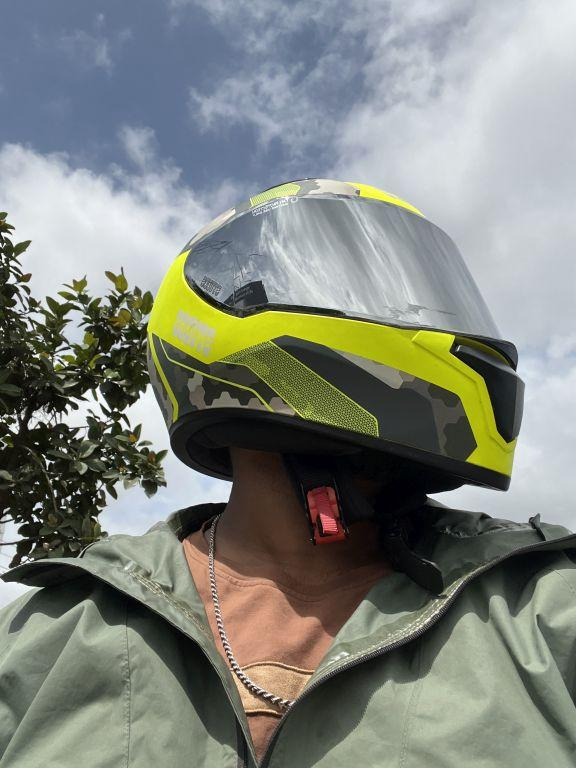helmet: (105, 170, 538, 525)
